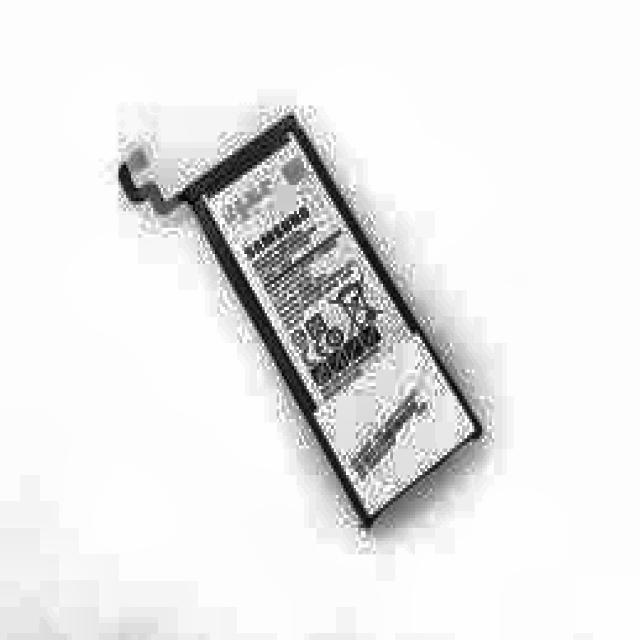Battery: (195, 122, 487, 518)
